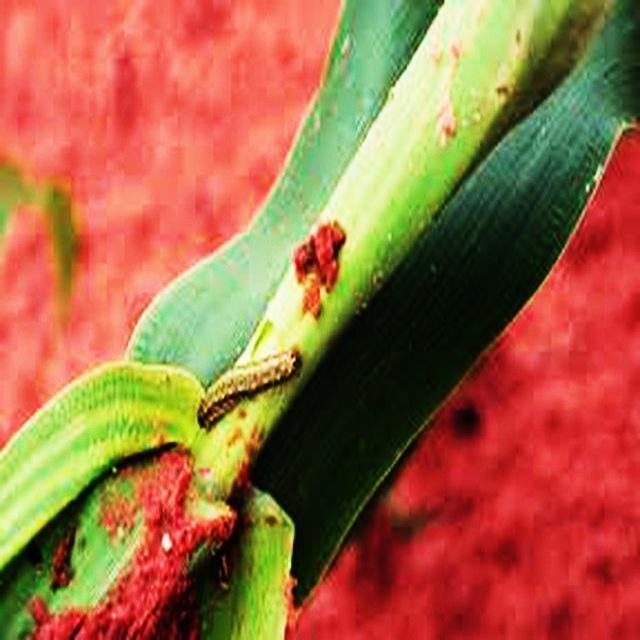gusano_cogollero: (194, 347, 304, 420)
